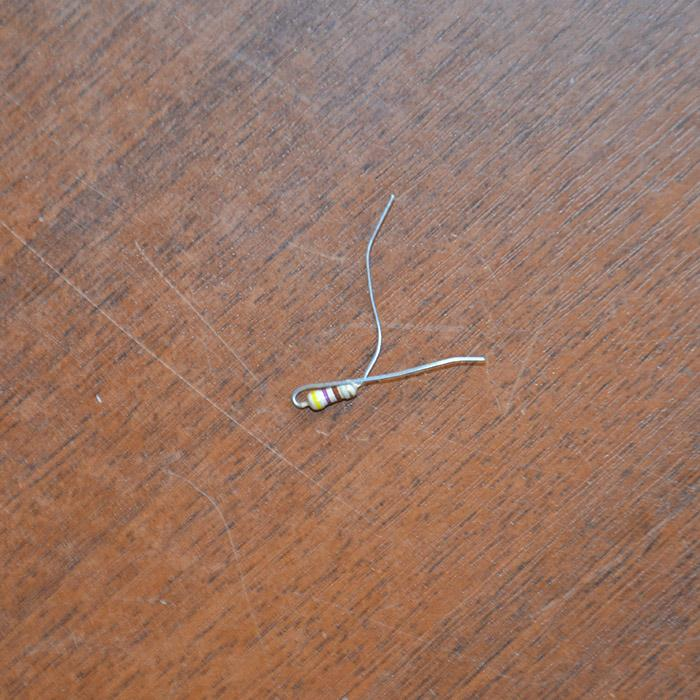resistor: (303, 383, 356, 411)
